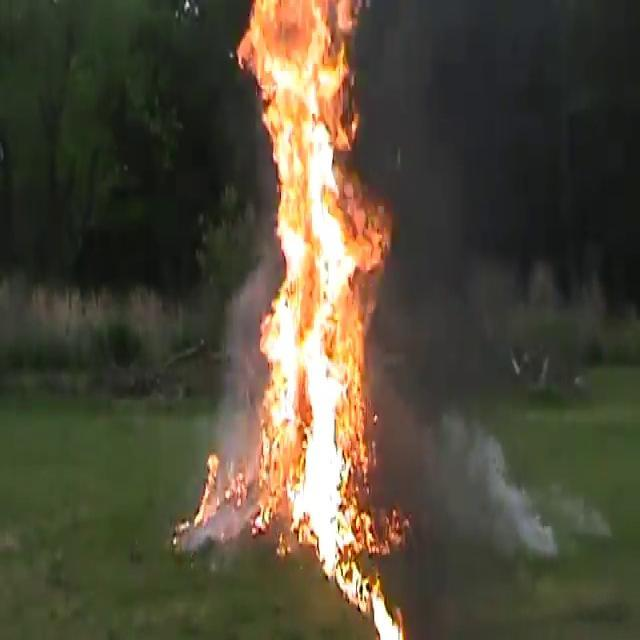Fire: (227, 1, 395, 609), (193, 442, 224, 528)
